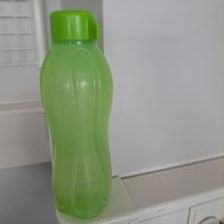bottle: (40, 7, 117, 219)
